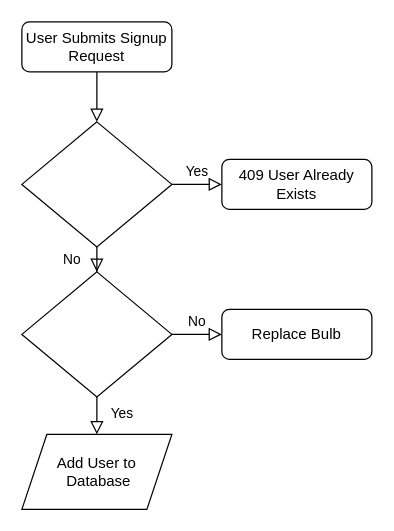
The diagram is 394 pixels wide and 531 high, and some of its shapes have lost their labels. The centre of each missing label's shape, as x and y in pixels:
Email present in database?: pixel 96 184
Password matches requirements?: pixel 96 334
